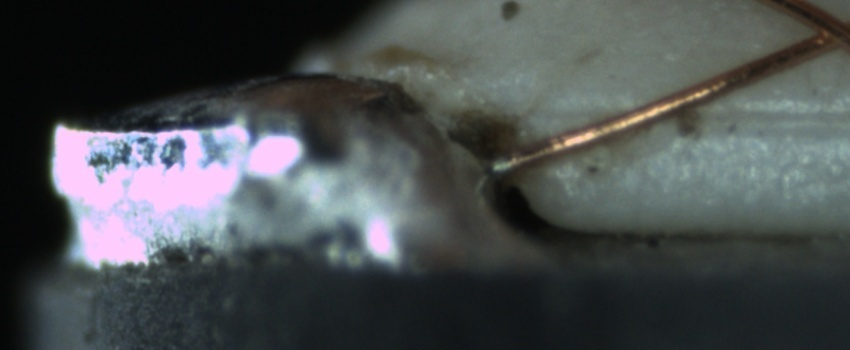CL: (791, 5, 848, 57)
DL: (547, 82, 850, 147)
